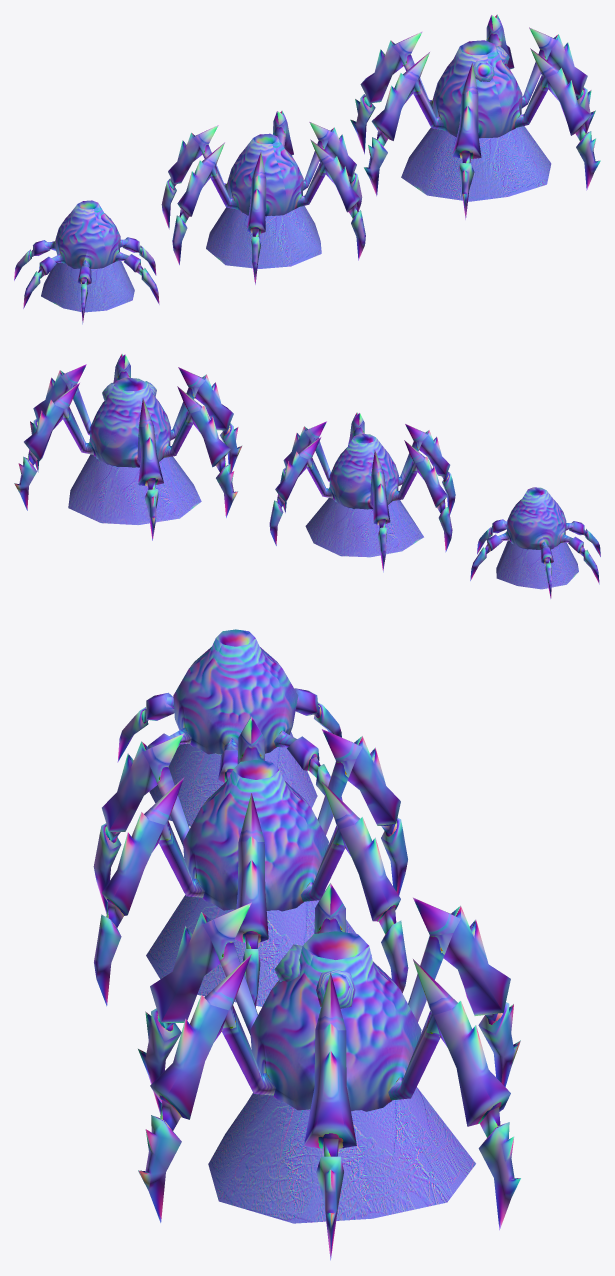
File: spider_pershiy variant.fbx
The picture shows the model from 3 angles, top to bottom: view 1: azimuth 30°, elevation 25°; view 2: azimuth 150°, elevation 25°; view 3: azimuth 270°, elevation 25°; orthographic projection. The views are drawn at different scales.
Visible parts, largest first — view 1: Circle.008; view 2: Circle.008; view 3: Circle.008.
Part boxes in pixels (x1,y1,x2,y2): Circle.008: (14,14,600,324); Circle.008: (14,354,600,598); Circle.008: (93,629,520,1260).
Bounding box in the file's own units: 2560 × 540 × 864.
1 material, 1 textured.
